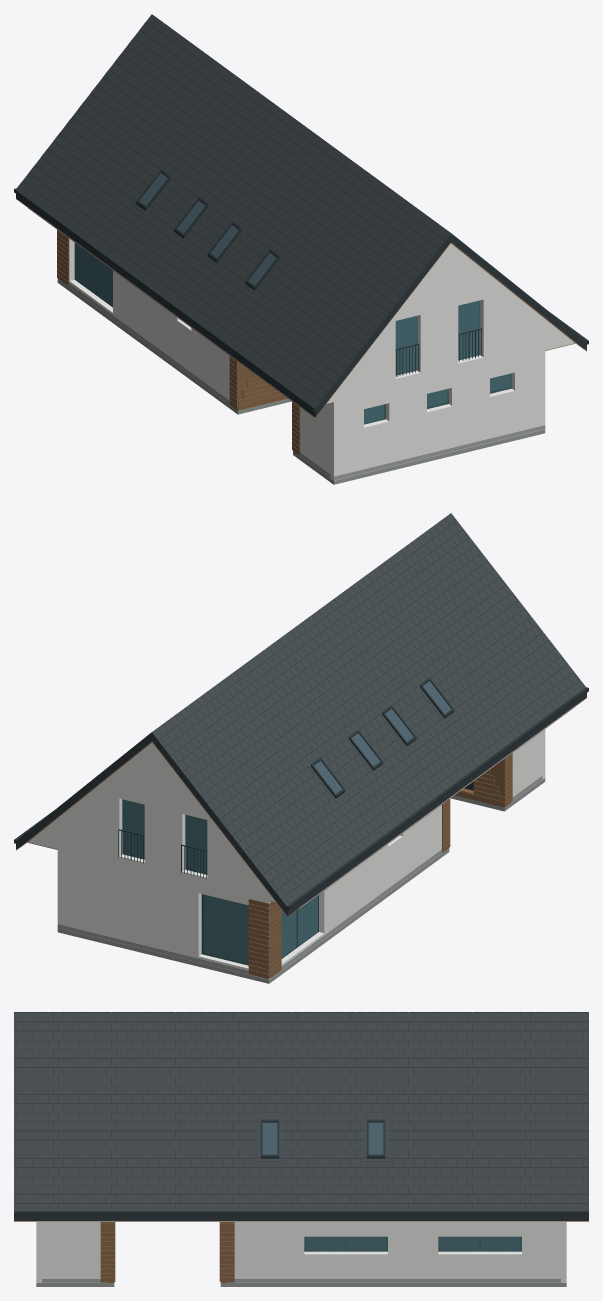
The model's file is dum-hajek.obj.
The picture shows the model from 3 angles, top to bottom: view 1: azimuth 30°, elevation 25°; view 2: azimuth 150°, elevation 25°; view 3: azimuth 270°, elevation 25°; orthographic projection. The views are drawn at different scales.
Parts seen in each view (by area): view 1: Roof_1, Flat_tile_course_1_5, Flat_tile_course_1_1, Flat_tile_course_1_6, Flat_tile_course_1_19, Flat_tile_course_1_20, Flat_tile_course_1_0, Flat_tile_course_1_9, Flat_tile_course_1_10, Flat_tile_course_1_2, Flat_tile_course_1_4, Flat_tile_course_1_3 (+46 smaller); view 2: Roof_1, Front_ground_0_1, Flat_tile_course_1_9, Flat_tile_course_1_18, Flat_tile_course_1_3, Flat_tile_course_1_4, Flat_tile_course_1_5, Flat_tile_course_1_8, Flat_tile_course_1_19, Flat_tile_course_1_17, Flat_tile_course_1_0, Flat_tile_course_1_7 (+37 smaller); view 3: Roof_0, Flat_tile_course_0_13, Flat_tile_course_0_17, Flat_tile_course_0_2, Flat_tile_course_0_3, Flat_tile_course_0_15, Flat_tile_course_0_4, Flat_tile_course_0_14, Flat_tile_course_0_16, Flat_tile_course_0_5, Flat_tile_course_0_6, Flat_tile_course_0_1 (+37 smaller).
Boxes of the visible parts, left/top/right/bottom form: Roof_1: left=16, top=19, right=451, bottom=416; Flat_tile_course_1_5: left=115, top=54, right=419, bottom=280; Flat_tile_course_1_1: left=140, top=22, right=444, bottom=248; Flat_tile_course_1_6: left=109, top=62, right=413, bottom=288; Flat_tile_course_1_19: left=29, top=165, right=333, bottom=391; Flat_tile_course_1_20: left=23, top=173, right=327, bottom=399; Flat_tile_course_1_0: left=146, top=14, right=450, bottom=240; Flat_tile_course_1_9: left=90, top=86, right=395, bottom=312; Flat_tile_course_1_10: left=84, top=94, right=388, bottom=320; Flat_tile_course_1_2: left=133, top=30, right=438, bottom=256; Flat_tile_course_1_4: left=121, top=46, right=426, bottom=272; Flat_tile_course_1_3: left=127, top=38, right=432, bottom=264; Roof_1: left=151, top=514, right=586, bottom=915; Front_ground_0_1: left=57, top=859, right=201, bottom=956; Flat_tile_course_1_9: left=207, top=585, right=512, bottom=811; Flat_tile_course_1_18: left=263, top=656, right=567, bottom=882; Flat_tile_course_1_3: left=170, top=537, right=475, bottom=763; Flat_tile_course_1_4: left=177, top=545, right=481, bottom=771; Flat_tile_course_1_5: left=183, top=553, right=487, bottom=779; Flat_tile_course_1_8: left=201, top=577, right=506, bottom=803; Flat_tile_course_1_19: left=269, top=664, right=573, bottom=890; Flat_tile_course_1_17: left=256, top=648, right=561, bottom=874; Flat_tile_course_1_0: left=152, top=513, right=456, bottom=739; Flat_tile_course_1_7: left=195, top=569, right=499, bottom=795; Roof_0: left=14, top=1012, right=588, bottom=1220; Flat_tile_course_0_13: left=14, top=1085, right=588, bottom=1094; Flat_tile_course_0_17: left=14, top=1049, right=588, bottom=1058; Flat_tile_course_0_2: left=14, top=1185, right=588, bottom=1194; Flat_tile_course_0_3: left=14, top=1176, right=588, bottom=1185; Flat_tile_course_0_15: left=14, top=1067, right=588, bottom=1076; Flat_tile_course_0_4: left=14, top=1167, right=588, bottom=1176; Flat_tile_course_0_14: left=14, top=1076, right=588, bottom=1085; Flat_tile_course_0_16: left=14, top=1058, right=588, bottom=1067; Flat_tile_course_0_5: left=14, top=1158, right=588, bottom=1167; Flat_tile_course_0_6: left=14, top=1149, right=588, bottom=1158; Flat_tile_course_0_1: left=14, top=1195, right=588, bottom=1203.
Bounding box in the file's own units: 10.95 × 8.9 × 20.6.
